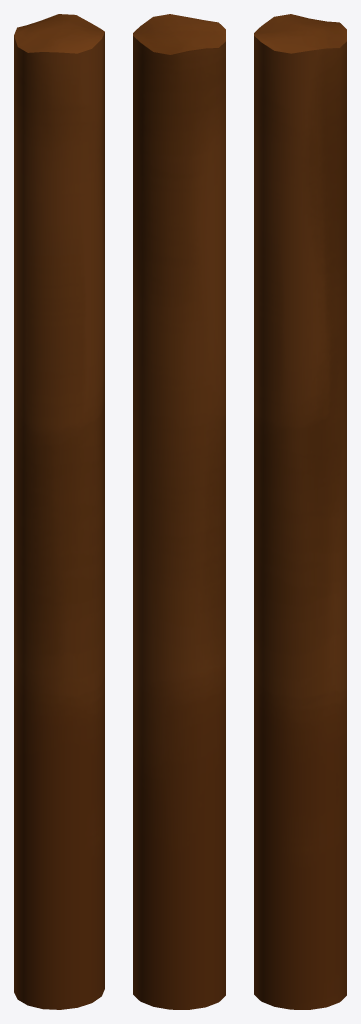
Rendered from woodpole2.fbx.
3 renders of one model, left to right at view 1: azimuth 30°, elevation 25°; view 2: azimuth 150°, elevation 25°; view 3: azimuth 330°, elevation 25°, orthographic.
Visible parts, largest first — view 1: Dock.008; view 2: Dock.008; view 3: Dock.008.
Part boxes in pixels (x1=…): Dock.008: x1=14, y1=14, x2=104, y2=1009; Dock.008: x1=133, y1=14, x2=225, y2=1009; Dock.008: x1=254, y1=14, x2=346, y2=1009.
Bounding box in the file's own units: 45.6 × 516 × 43.1.
